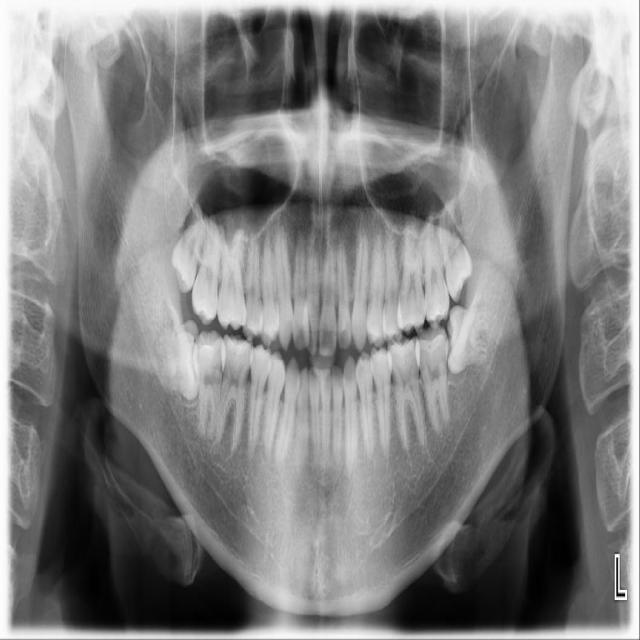impacted tooth: (150, 320, 200, 398), (446, 305, 501, 374), (437, 221, 473, 302), (172, 218, 205, 291)
